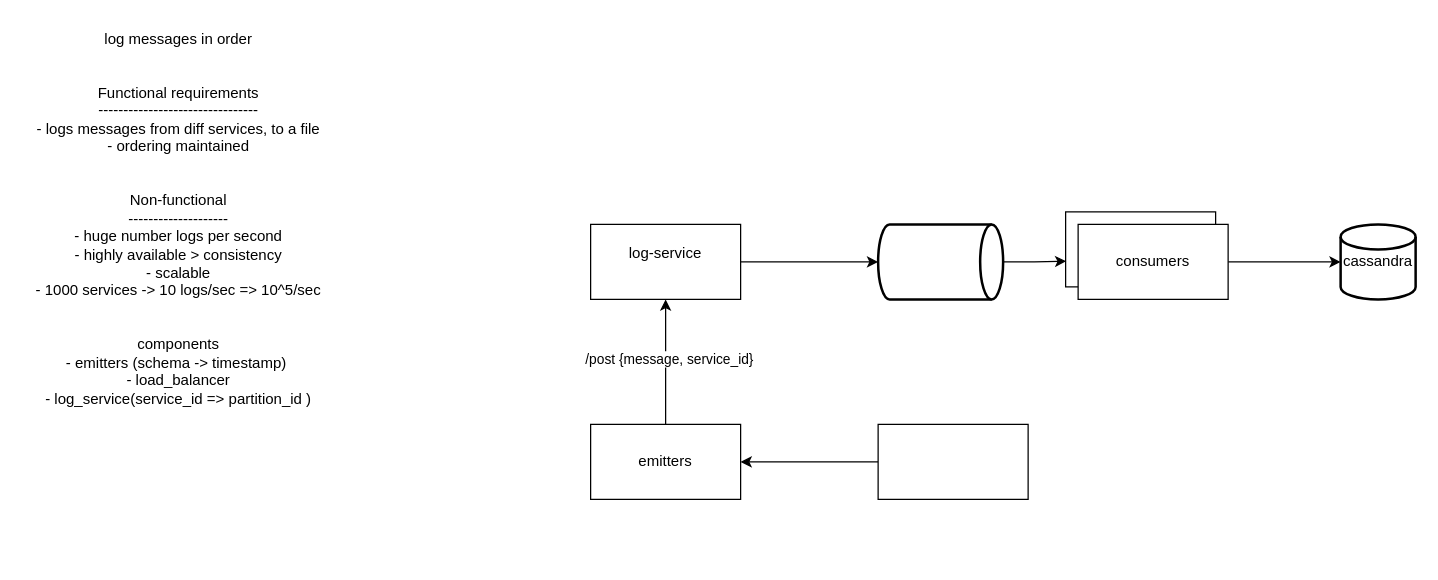
Image size: 1438x580. Some labels were removed from this diagram. Each missing label, with the centre of its shape:
"control-plane - NTP synced" belongs at (952,461).
"message Q" belongs at (940,261).
